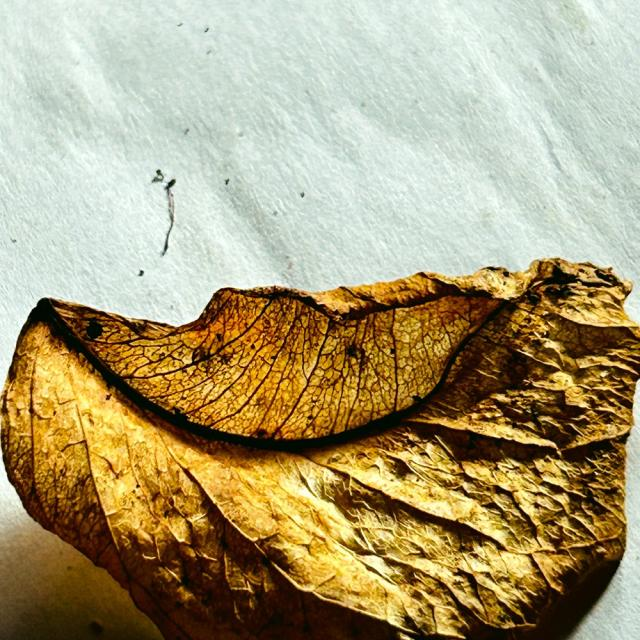DryLeaf_Lemon: (0, 258, 639, 639)
